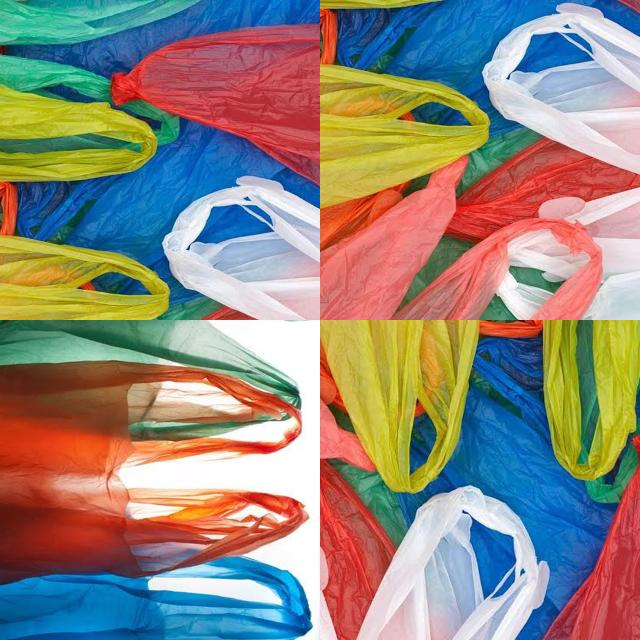Single-layer Plastic: (0, 361, 308, 582), (399, 338, 616, 640), (18, 120, 319, 303), (338, 0, 640, 133), (0, 320, 300, 441), (111, 25, 320, 184), (356, 486, 549, 639), (321, 320, 479, 492), (484, 4, 640, 173), (0, 556, 311, 640), (9, 0, 319, 77), (320, 65, 488, 206), (477, 172, 640, 317), (321, 158, 466, 319), (164, 176, 320, 320), (394, 218, 602, 320), (445, 139, 640, 241), (544, 466, 640, 639), (544, 320, 640, 481), (0, 85, 158, 181), (0, 236, 169, 320), (320, 460, 396, 639), (0, 1, 199, 45)
